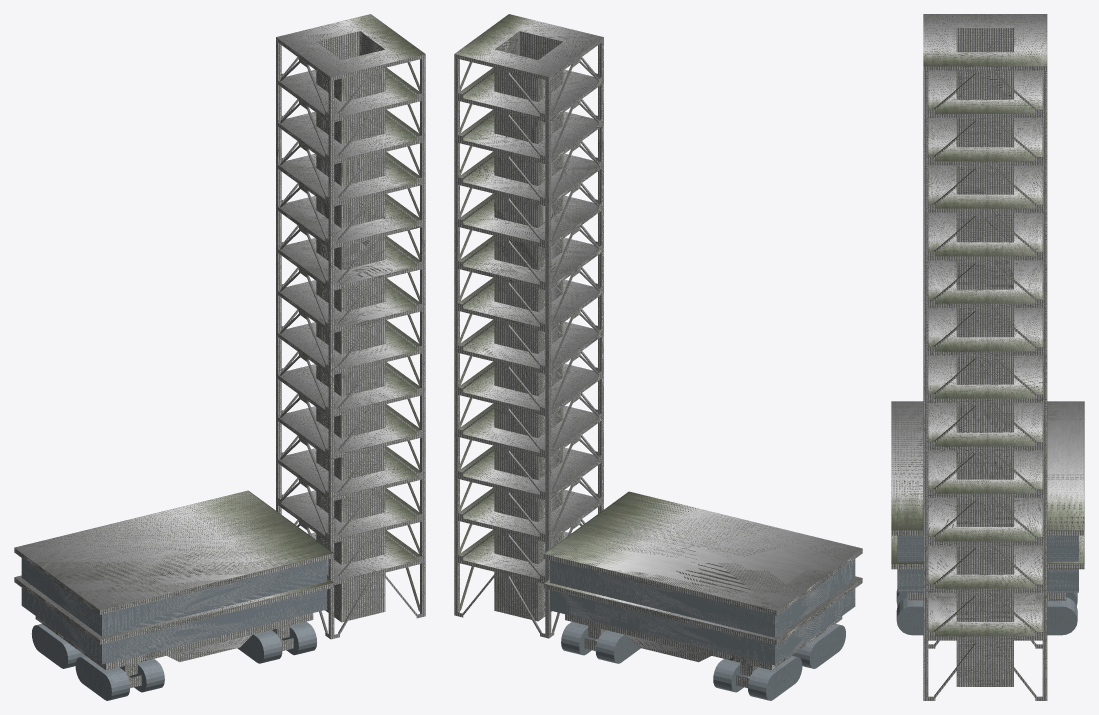
The model's file is Plataforma_lanzamiento.obj.
3 views of the same model, side by side, from view 1: azimuth 30°, elevation 25°; view 2: azimuth 150°, elevation 25°; view 3: azimuth 270°, elevation 25° (orthographic). The views are drawn at different scales.
Visible parts, largest first — view 1: SketchUp.027_ID265, SketchUp.005_ID67, SketchUp.002_ID32, SketchUp.003_ID47, SketchUp.004_ID57, SketchUp.019_ID193, SketchUp.009_ID107, SketchUp.022_ID221, SketchUp.013_ID145, SketchUp.012_ID137, SketchUp.018_ID185; view 2: SketchUp.027_ID265, SketchUp.005_ID67, SketchUp.002_ID32, SketchUp.003_ID47, SketchUp.004_ID57, SketchUp.019_ID193, SketchUp.022_ID221, SketchUp.009_ID107, SketchUp.014_ID153, SketchUp.024_ID237, SketchUp.015_ID161; view 3: SketchUp.027_ID265, SketchUp.005_ID67, SketchUp.002_ID32, SketchUp.003_ID47, SketchUp.024_ID237, SketchUp.004_ID57, SketchUp.018_ID185, SketchUp.019_ID193.
Part boxes in pixels (left/top/right/bottom): SketchUp.027_ID265: left=276, top=14, right=425, bottom=639; SketchUp.005_ID67: left=14, top=490, right=333, bottom=614; SketchUp.002_ID32: left=21, top=558, right=326, bottom=636; SketchUp.003_ID47: left=21, top=588, right=326, bottom=664; SketchUp.004_ID57: left=14, top=575, right=333, bottom=644; SketchUp.019_ID193: left=35, top=613, right=313, bottom=670; SketchUp.009_ID107: left=75, top=655, right=130, bottom=700; SketchUp.022_ID221: left=31, top=624, right=85, bottom=668; SketchUp.013_ID145: left=237, top=630, right=282, bottom=663; SketchUp.012_ID137: left=129, top=659, right=164, bottom=692; SketchUp.018_ID185: left=282, top=621, right=316, bottom=655; SketchUp.027_ID265: left=454, top=14, right=603, bottom=638; SketchUp.005_ID67: left=543, top=491, right=862, bottom=615; SketchUp.002_ID32: left=550, top=559, right=855, bottom=637; SketchUp.003_ID47: left=550, top=588, right=855, bottom=665; SketchUp.004_ID57: left=543, top=576, right=862, bottom=645; SketchUp.019_ID193: left=565, top=614, right=842, bottom=670; SketchUp.022_ID221: left=748, top=656, right=802, bottom=700; SketchUp.009_ID107: left=792, top=624, right=845, bottom=668; SketchUp.014_ID153: left=595, top=630, right=640, bottom=663; SketchUp.024_ID237: left=561, top=622, right=596, bottom=655; SketchUp.015_ID161: left=713, top=659, right=743, bottom=692; SketchUp.027_ID265: left=923, top=14, right=1047, bottom=700; SketchUp.005_ID67: left=891, top=401, right=1084, bottom=535; SketchUp.002_ID32: left=897, top=535, right=1078, bottom=561; SketchUp.003_ID47: left=897, top=569, right=1078, bottom=592; SketchUp.024_ID237: left=1047, top=597, right=1077, bottom=635; SketchUp.004_ID57: left=891, top=535, right=1084, bottom=569; SketchUp.018_ID185: left=896, top=597, right=923, bottom=635; SketchUp.019_ID193: left=907, top=592, right=1066, bottom=600.
Size of the model in its own units: 4.73 by 7.48 by 2.06.
